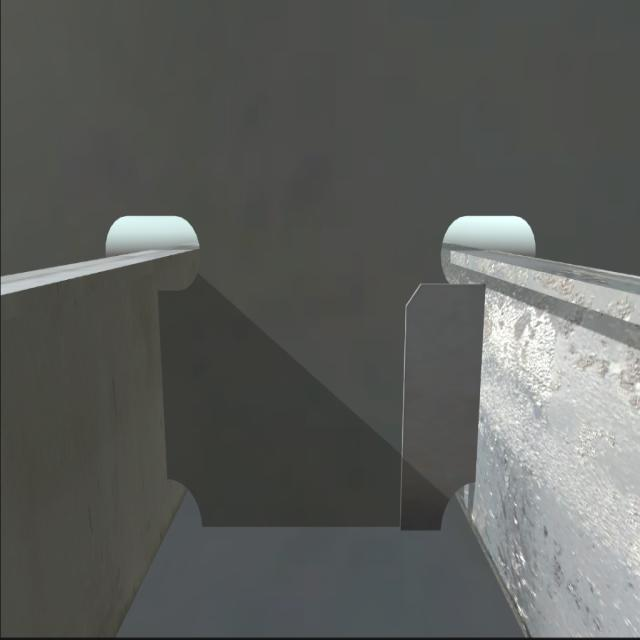fillet_hole: (170, 476, 206, 532), (440, 484, 478, 530)
fillet_yong_jeop_jang: (196, 518, 446, 537)
longi_yong_jeop_jang: (153, 288, 176, 481), (468, 275, 488, 481)
plate_CP03: (399, 281, 482, 528)
